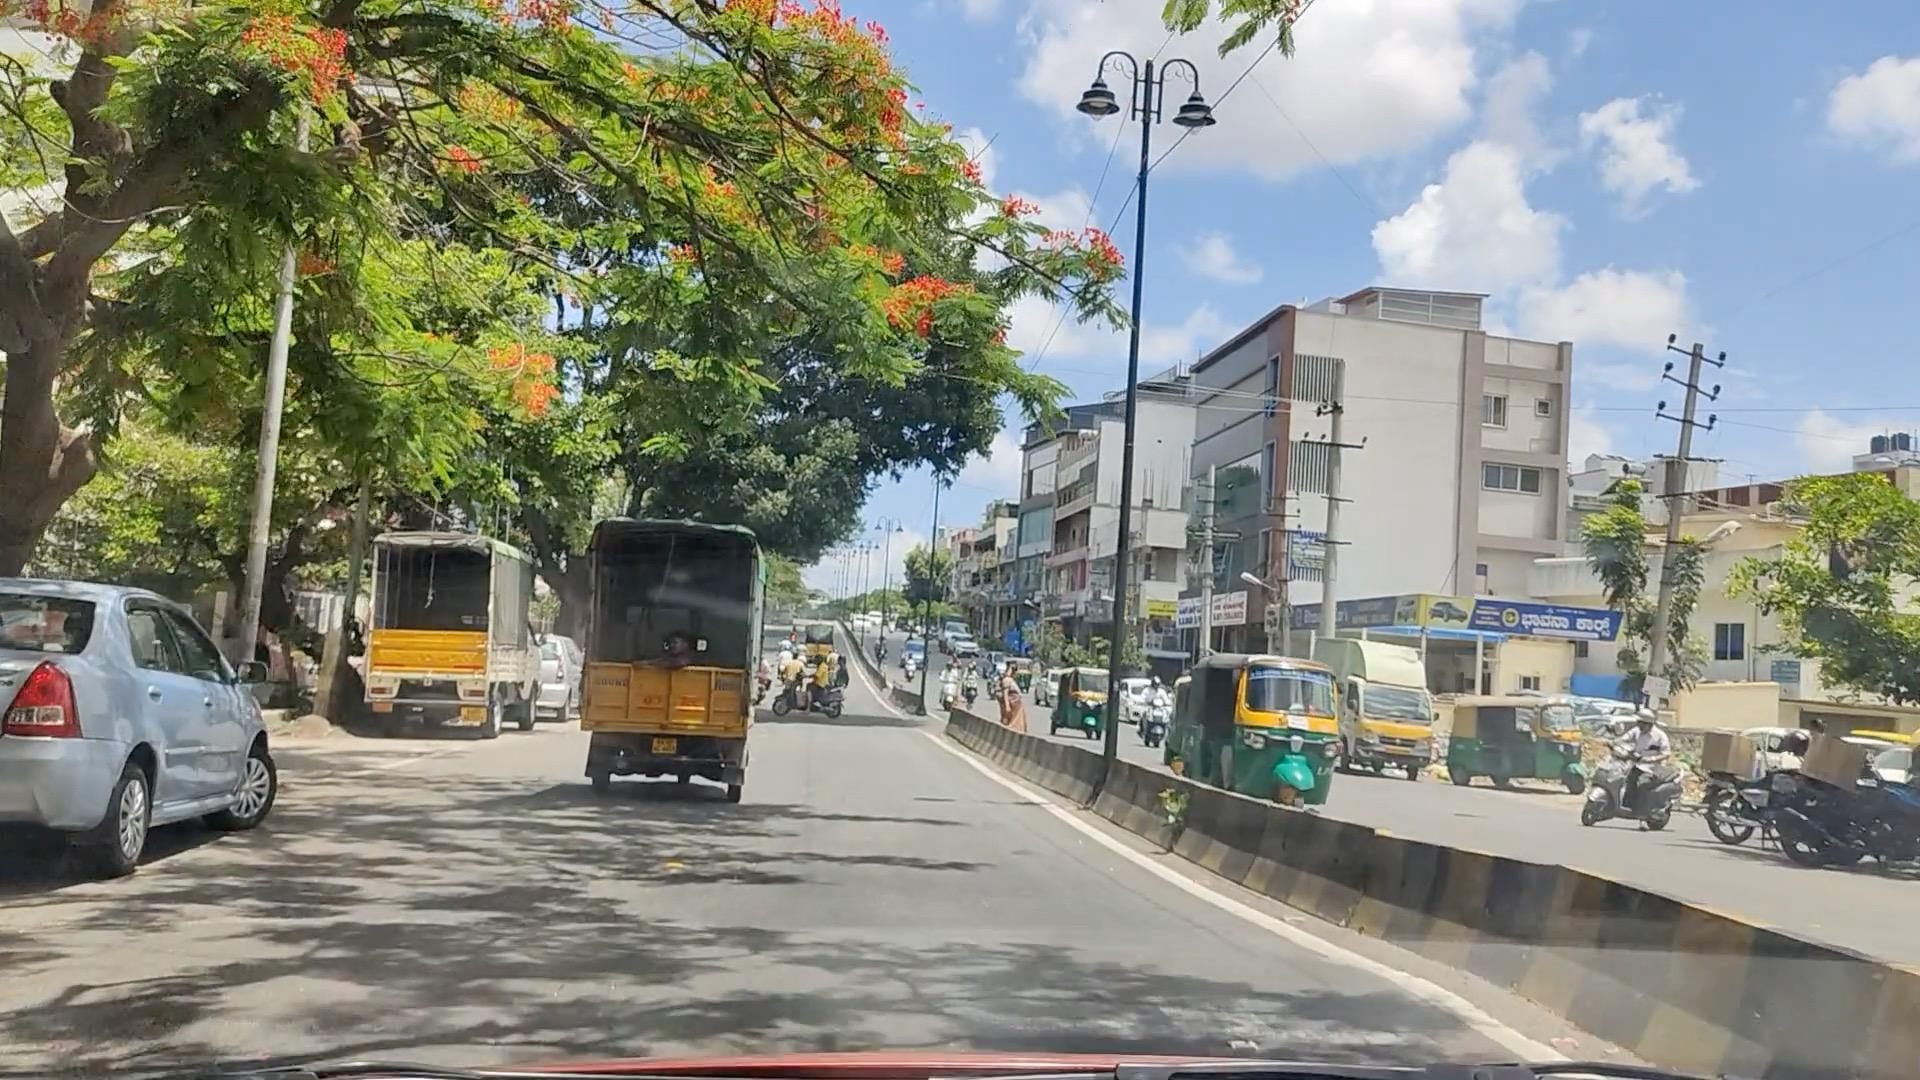HMV: (604, 517, 760, 794), (348, 546, 509, 720)
